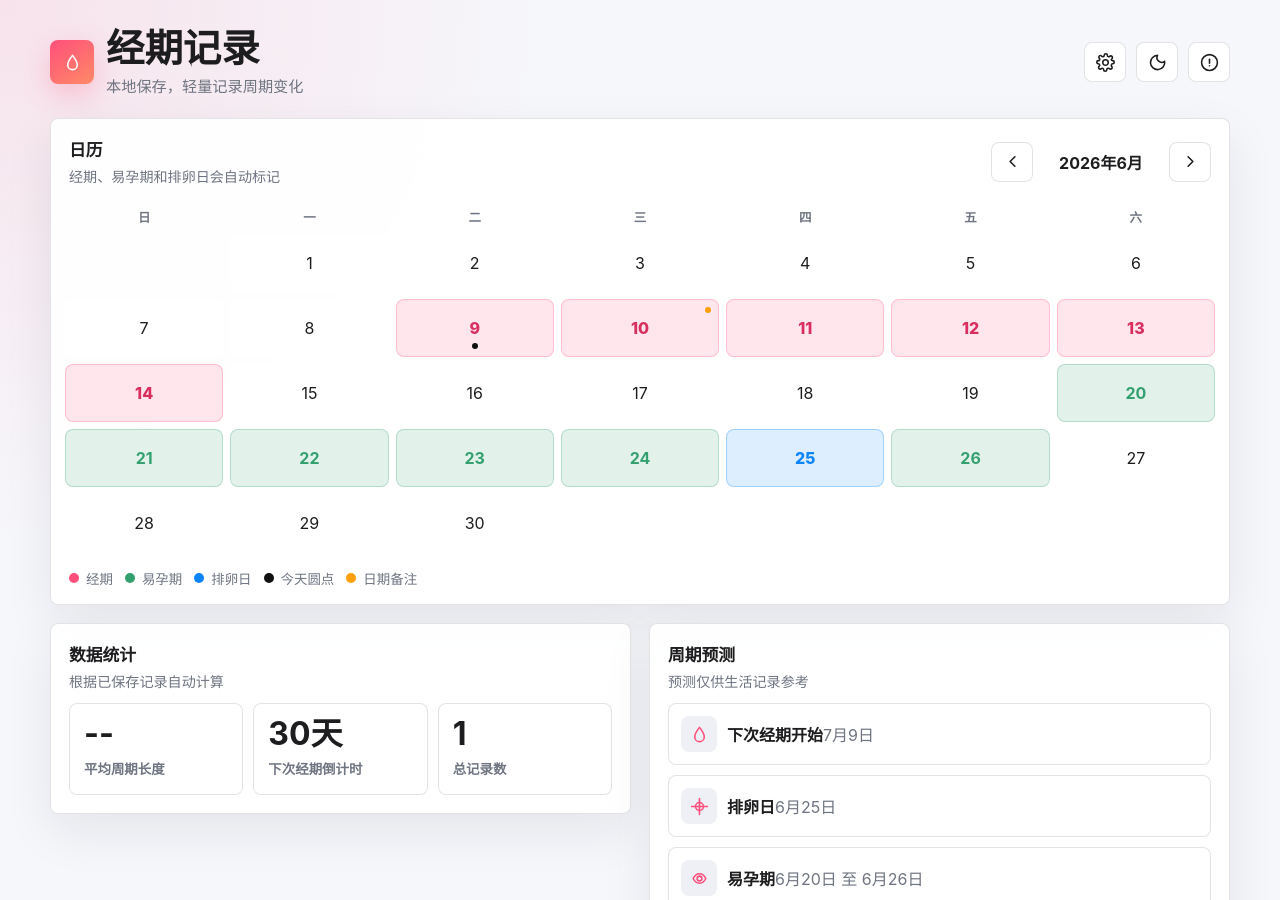
Scenario: App › creates a period record by clicking two dates
Click the button "16". click: [475, 393]
box: [396,364,554,422]
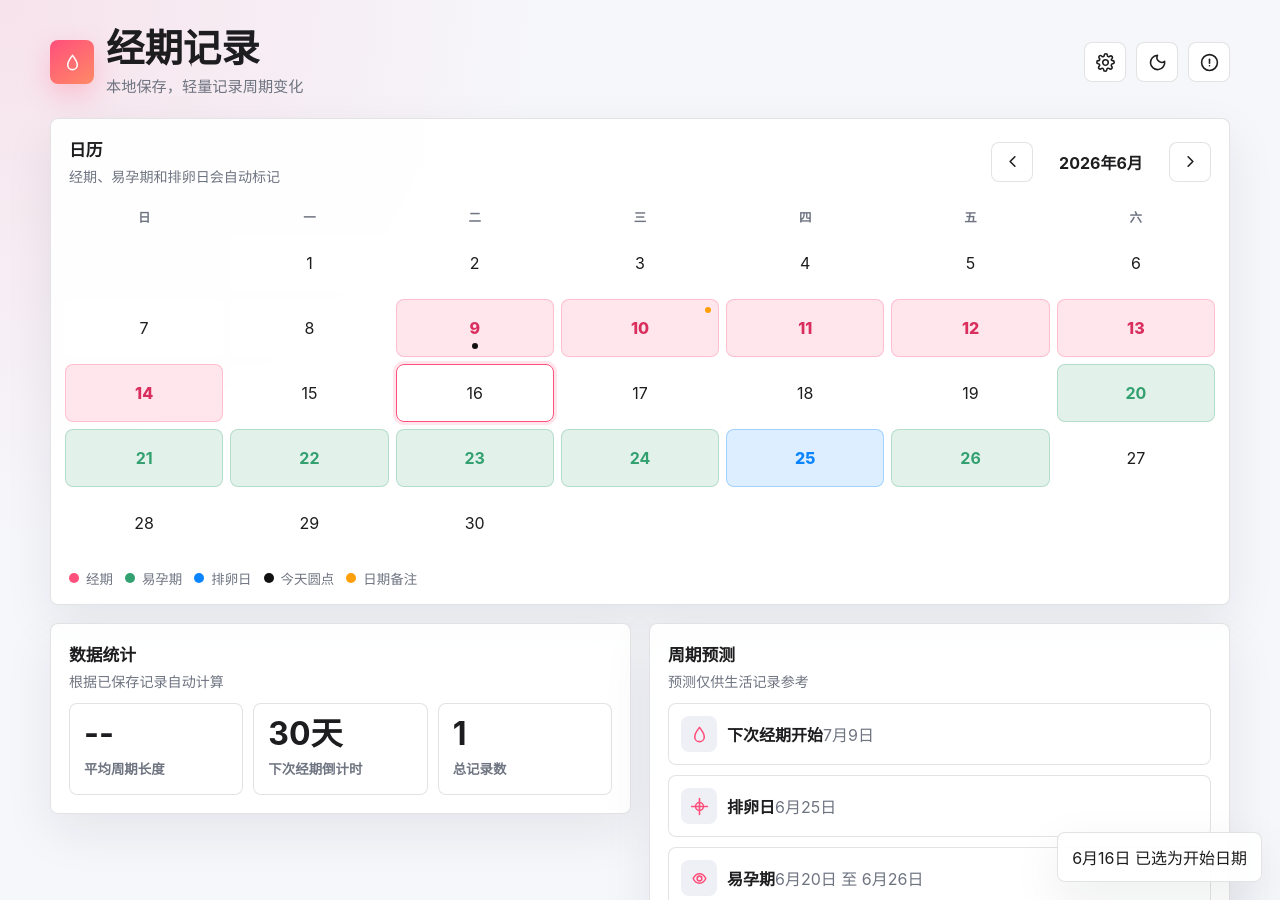
Click the button "18". click: [805, 393]
box: [726,364,884,422]
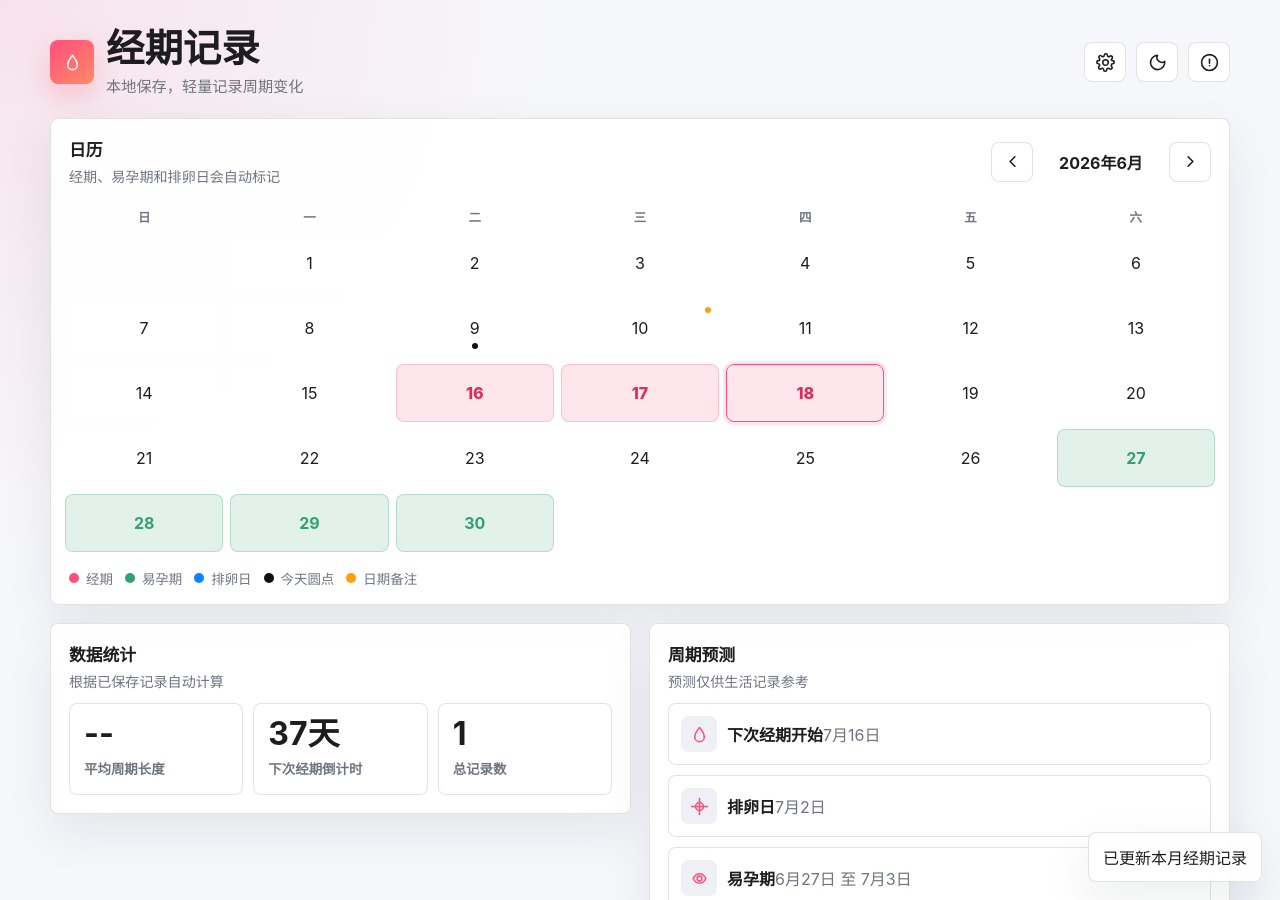
Now the text "已更新本月经期记录" is shown, box [1088,832,1262,882]
